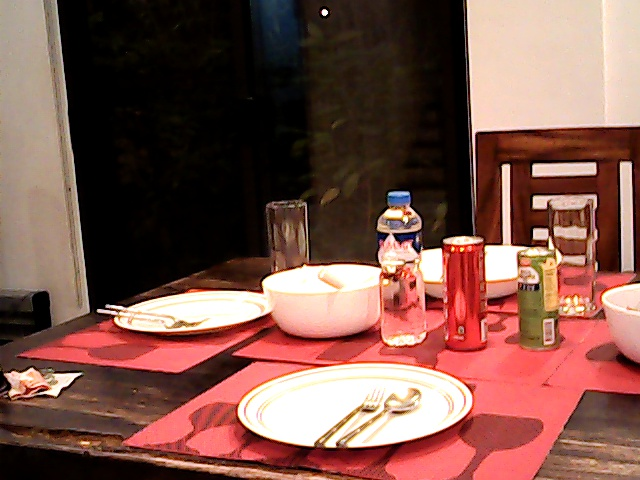Cola: (441, 232, 487, 353)
Pine Juice: (513, 242, 561, 354)
Summit Water: (376, 189, 426, 339)
